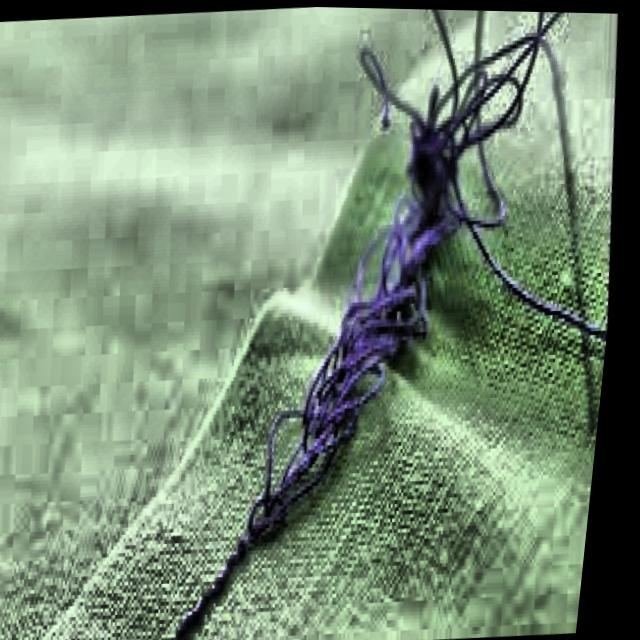Stitch: (181, 4, 635, 568)
